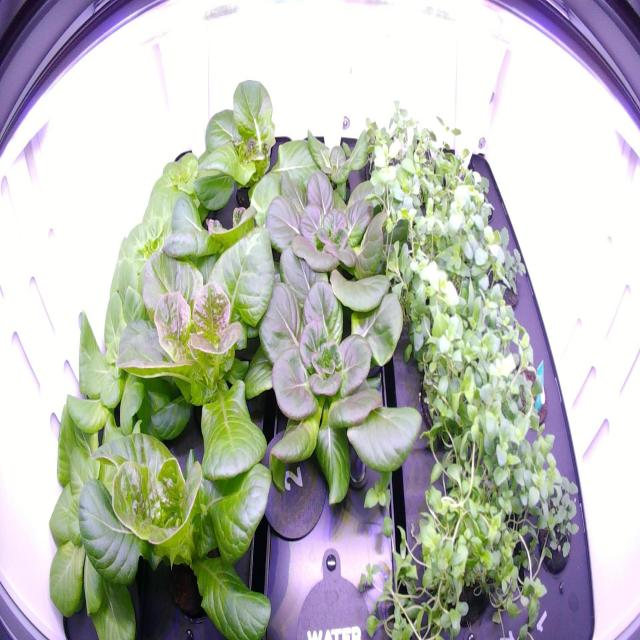young: (72, 366, 277, 640), (116, 191, 294, 491), (244, 247, 437, 522), (41, 388, 214, 638), (60, 246, 208, 438), (259, 148, 396, 322), (181, 68, 302, 236), (97, 191, 217, 333), (130, 136, 229, 254), (282, 121, 378, 224)
